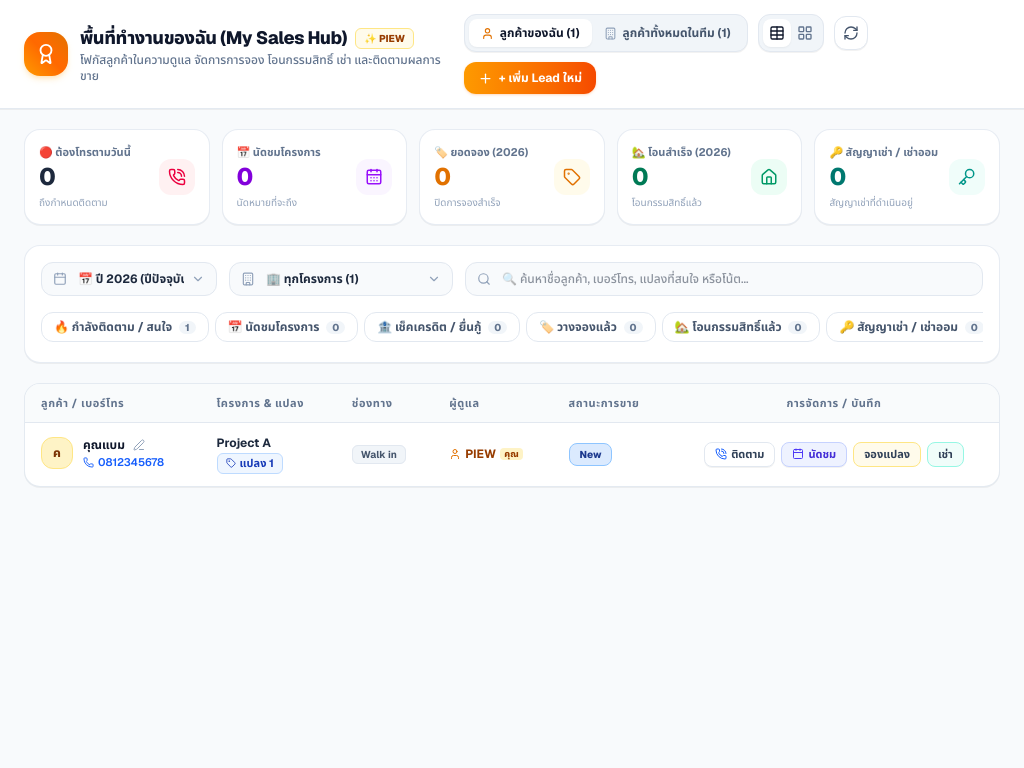
Test: Customer Name & Phone Editing in My Sales Workspace › successfully updates customer_name and phone in leads and plots tables and updates UI
Expected: the text "คุณแบม" is shown, x1=83 y1=437 x2=125 y2=453
Step 1. Click the button titled "แก้ไขชื่อและเบอร์โทรลูกค้า" → {"x": 139, "y": 445}, box x1=131 y1=437 x2=147 y2=453
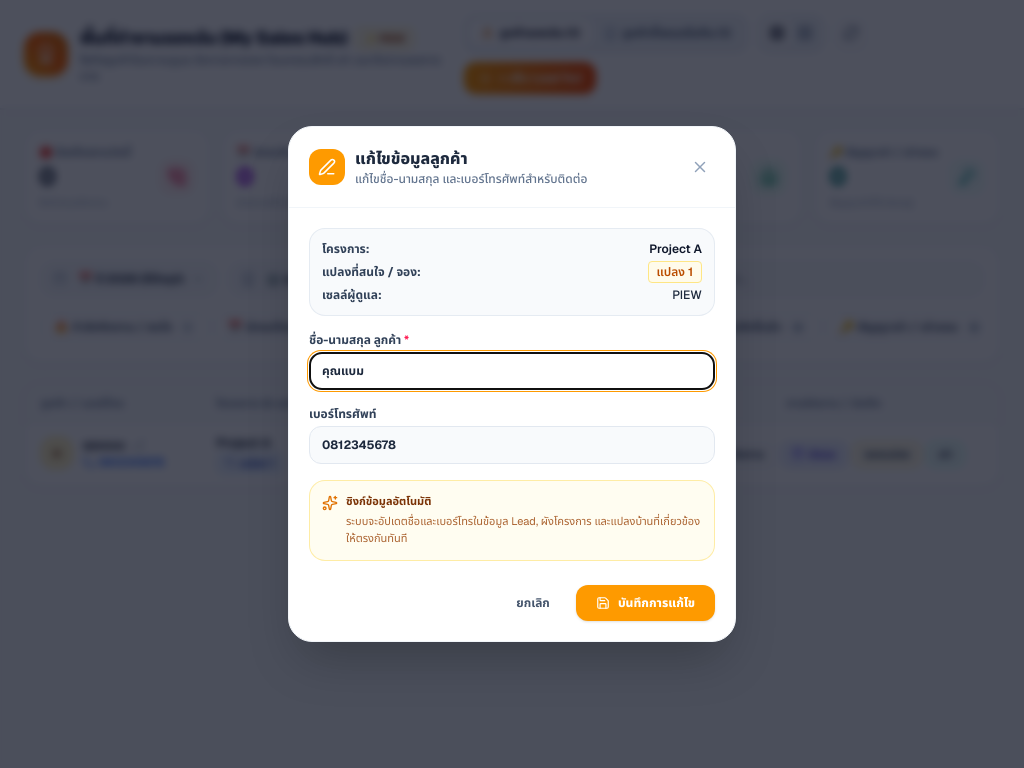
Step 2. Replace the text in the field with placeholder "เช่น นาย สมชาย ใจดี หรือ คุณสมชาย" below "ชื่อ-นามสกุล ลูกค้า" with "นางสาว แบม สุภาพร" → {"x": 512, "y": 371}, box x1=309 y1=352 x2=715 y2=390
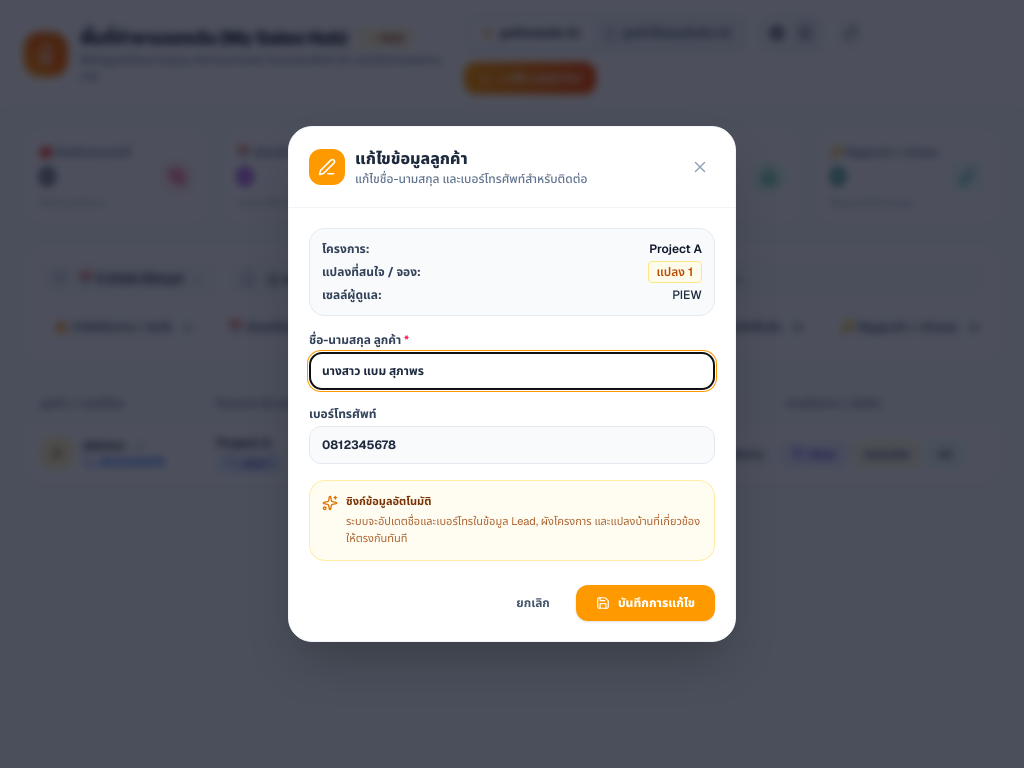
Step 3. Replace the text in the 2nd field with placeholder "เช่น 0812345678" with "0899999999" → {"x": 512, "y": 445}, box x1=309 y1=426 x2=715 y2=464
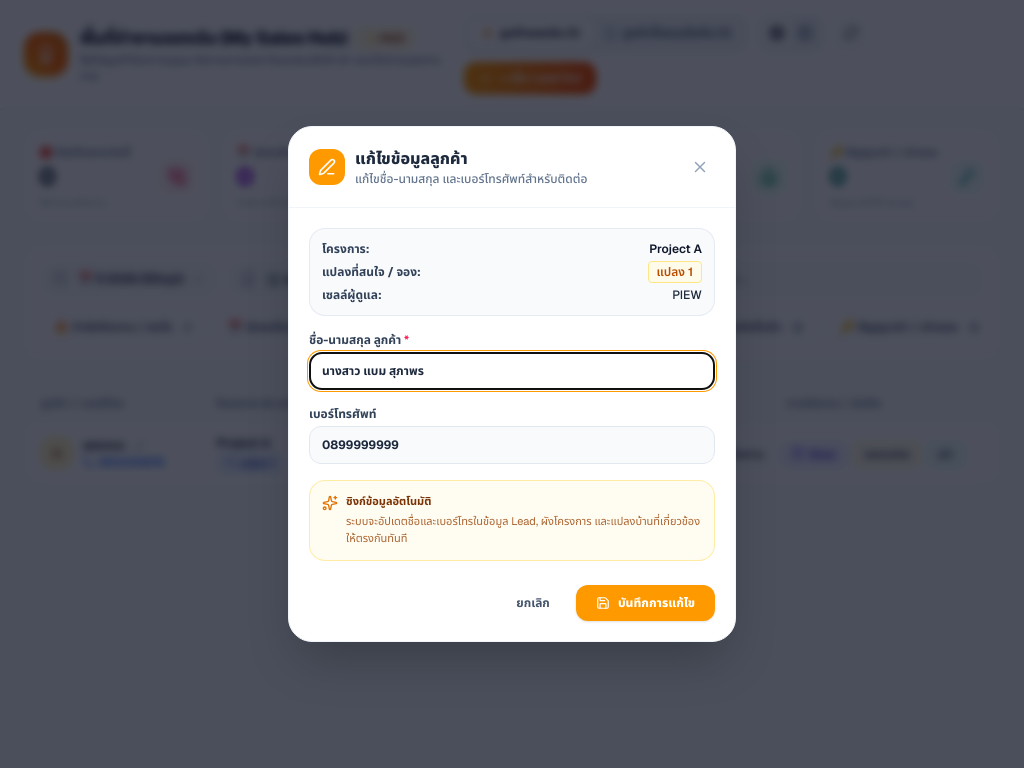
Step 4. Click the button "บันทึกการแก้ไข" → {"x": 645, "y": 603}, box x1=576 y1=585 x2=715 y2=621
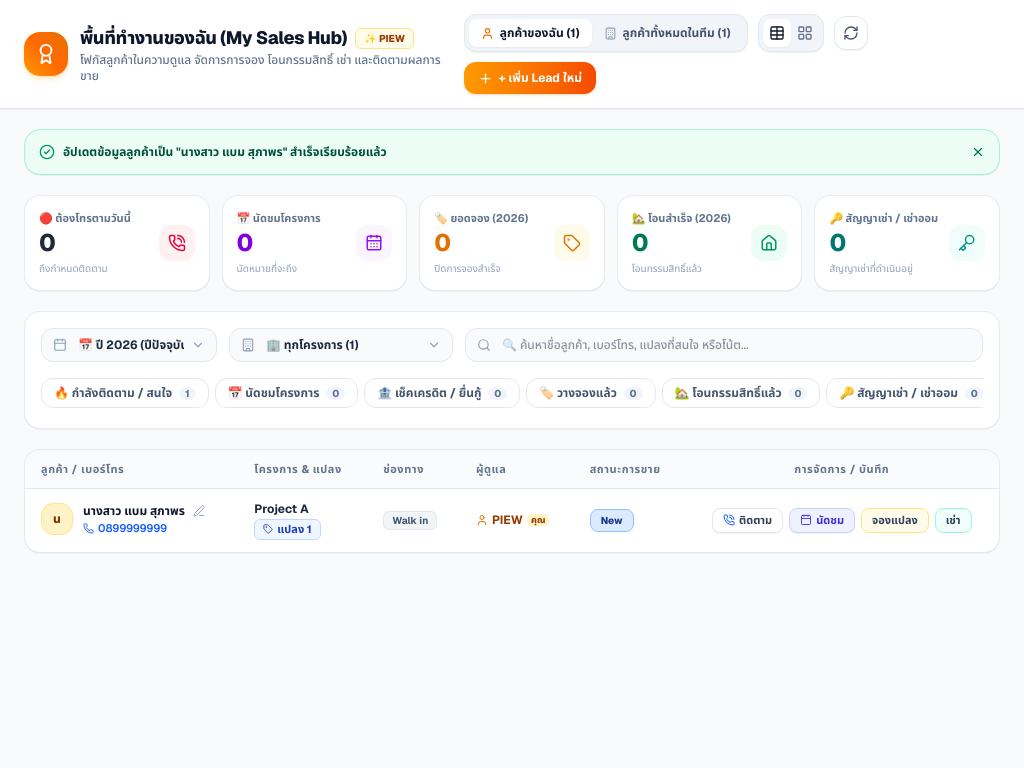
Expected: the text "นางสาว แบม สุภาพร" is shown, x1=83 y1=503 x2=185 y2=519
Expected: the link "0899999999" is shown, x1=83 y1=521 x2=167 y2=536
Expected: the text "อัปเดตข้อมูลลูกค้าเป็น \"นางสาว แบม สุภาพร\" สำเร็จเรียบร้อยแล้ว" is shown, x1=39 y1=144 x2=387 y2=160
